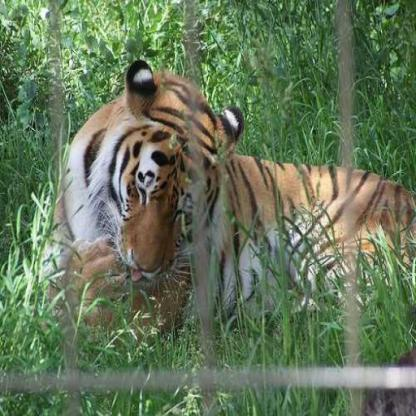Tiger: (43, 55, 415, 313)
